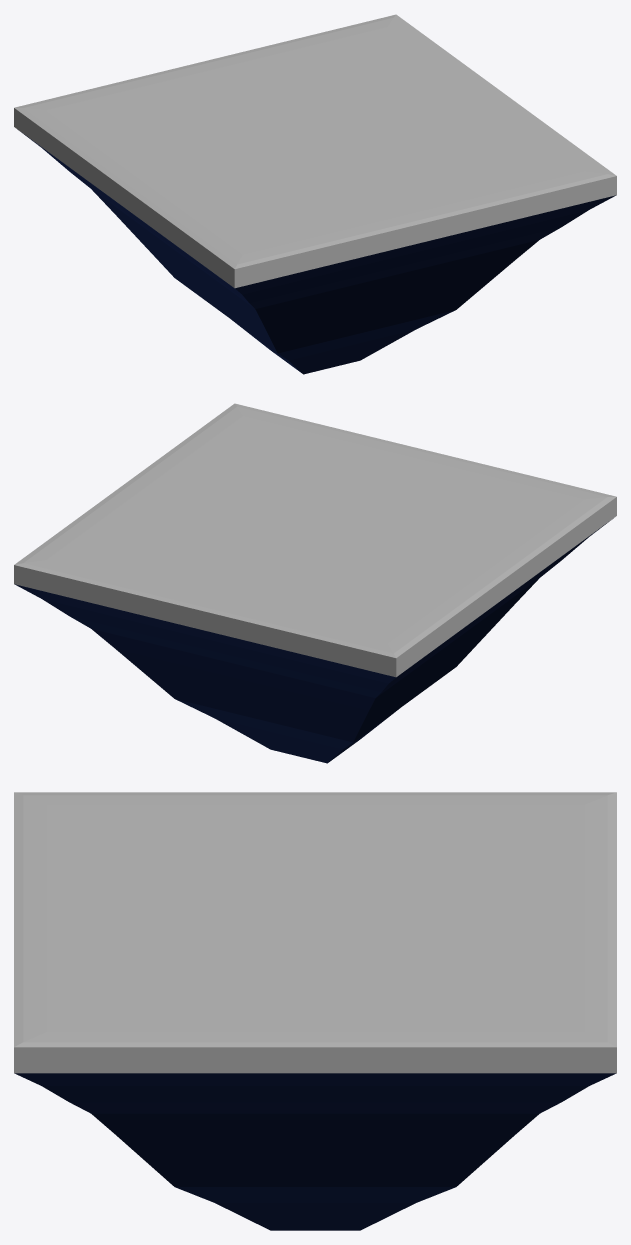
Rendered from Platform.fbx.
The picture shows the model from 3 angles, top to bottom: view 1: azimuth 30°, elevation 25°; view 2: azimuth 150°, elevation 25°; view 3: azimuth 270°, elevation 25°; orthographic projection. The views are drawn at different scales.
Parts seen in each view (by area): view 1: Platform; view 2: Platform; view 3: Platform.
Boxes of the visible parts, x1,y1,x2,y2 form: Platform: (14,14,616,374); Platform: (14,403,616,763); Platform: (14,792,616,1230).
Bounding box in the file's own units: 698 × 375 × 698.
